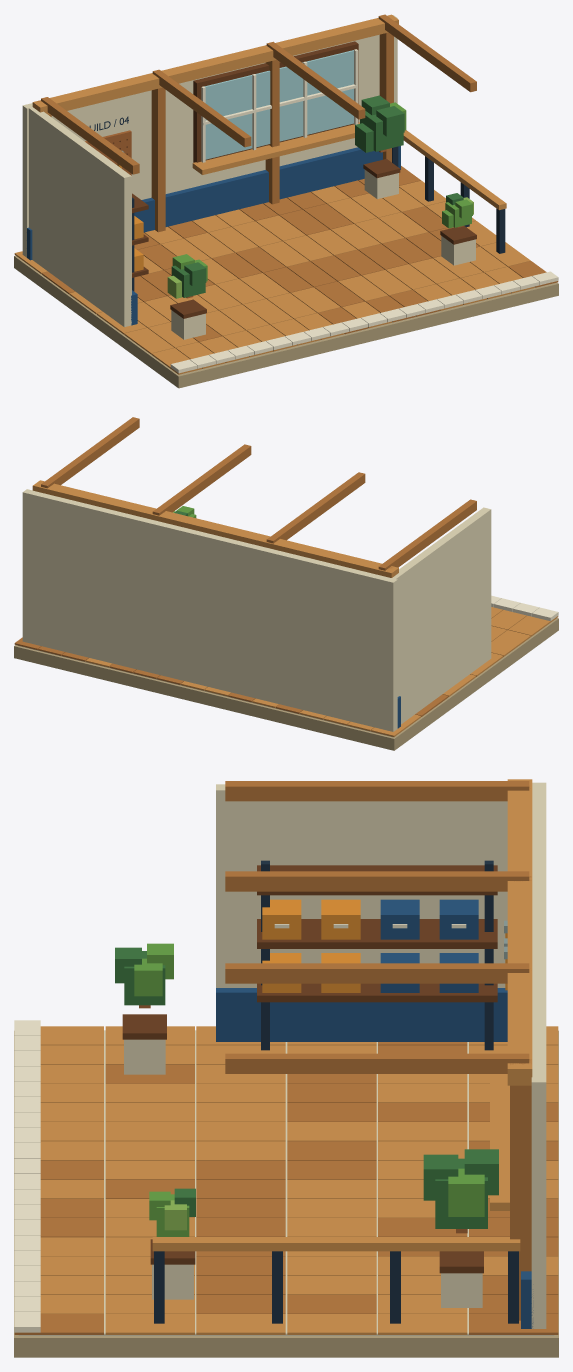
File: environment.glb
3 renders of one model, top to bottom at view 1: azimuth 30°, elevation 25°; view 2: azimuth 150°, elevation 25°; view 3: azimuth 270°, elevation 25°, orthographic. The views are drawn at different scales.
Visible parts, largest first — view 1: WorkshopBackdrop; view 2: WorkshopBackdrop; view 3: WorkshopBackdrop.
Part boxes in pixels (box(x1,y1,x2,y2)): WorkshopBackdrop: box(14, 14, 558, 388); WorkshopBackdrop: box(14, 417, 558, 750); WorkshopBackdrop: box(14, 779, 558, 1357).
Bounding box in the file's own units: 8 × 3.45 × 6.
